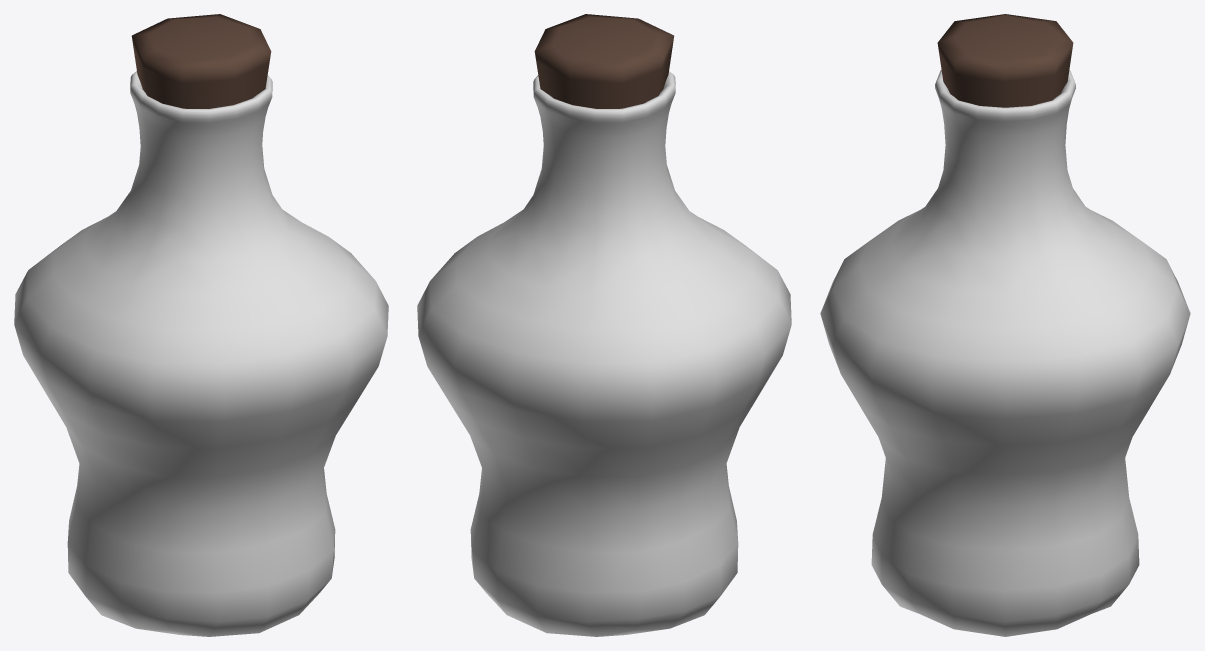
The model's file is quaternius-rpg-items-pack-potion3-filled.glb.
The picture shows the model from 3 angles, left to right: view 1: azimuth 30°, elevation 25°; view 2: azimuth 150°, elevation 25°; view 3: azimuth 270°, elevation 25°; orthographic projection.
Parts seen in each view (by area): view 1: Potion3_Filled; view 2: Potion3_Filled; view 3: Potion3_Filled.
Boxes of the visible parts, x1,y1,x2,y2 form: Potion3_Filled: (14,14,388,636); Potion3_Filled: (417,14,791,636); Potion3_Filled: (820,14,1190,636).
Bounding box in the file's own units: 0.7186 × 1.22 × 0.7186.
